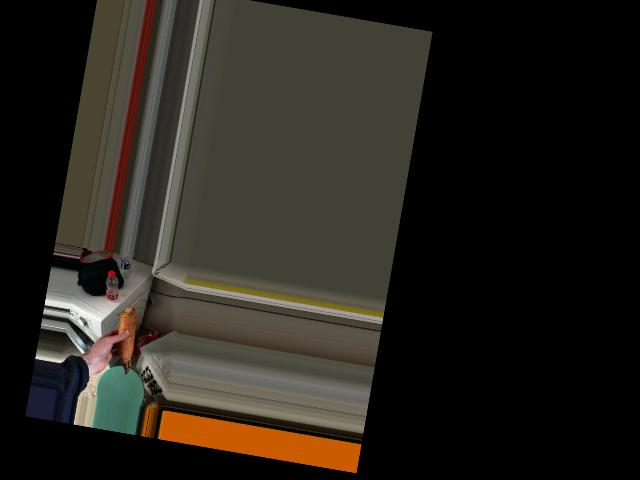sweet_potato: (105, 301, 145, 376)
